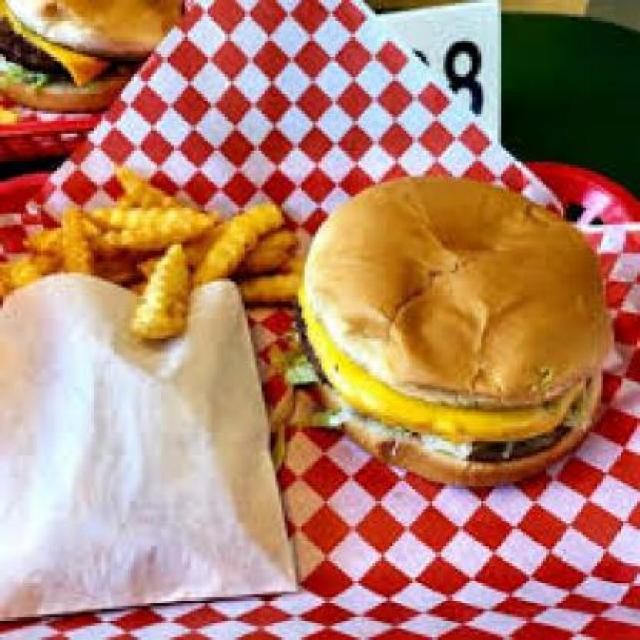hamburger: (293, 165, 612, 486)
